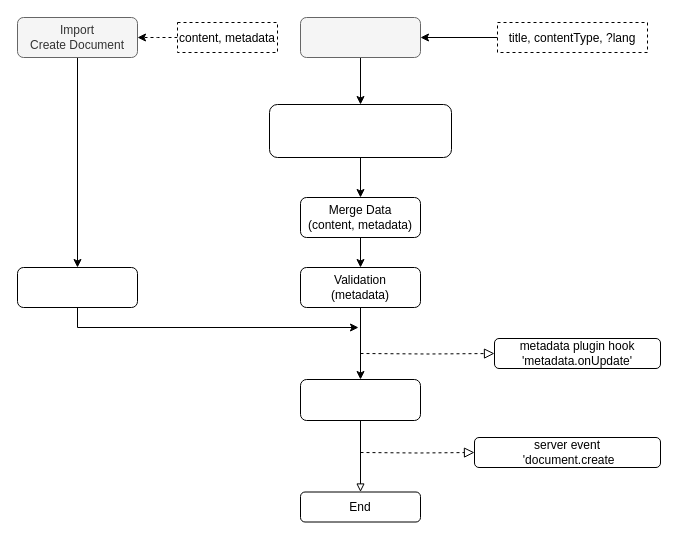
Image size: 678x540. Some labels were removed from this diagram. Each missing label, with the centre of its shape:
"Context Gathering (defaultContent, defaultMetadata)" belongs at pixel 360 131.
"Editor Create Document" belongs at pixel 360 37.
"Save (db)" belongs at pixel 360 399.
"Validation (content, metadata)" belongs at pixel 77 287.
